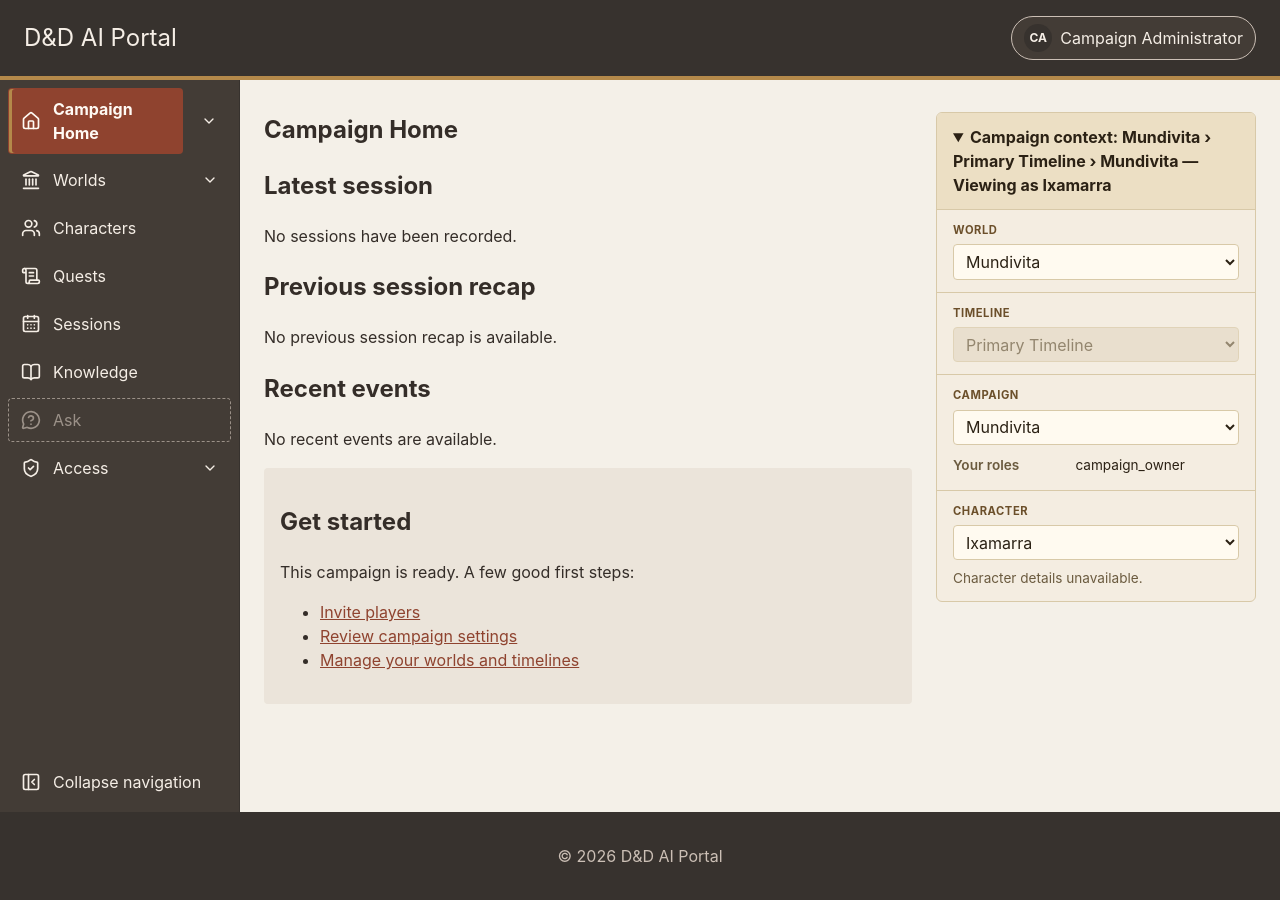
it: portal routing › shows an accessible logout control in the authenticated chrome
The width and height of the screenshot is (1280, 900).
Click the button with aria-label "account menu" at (1134, 38), box [1011,16,1256,60]
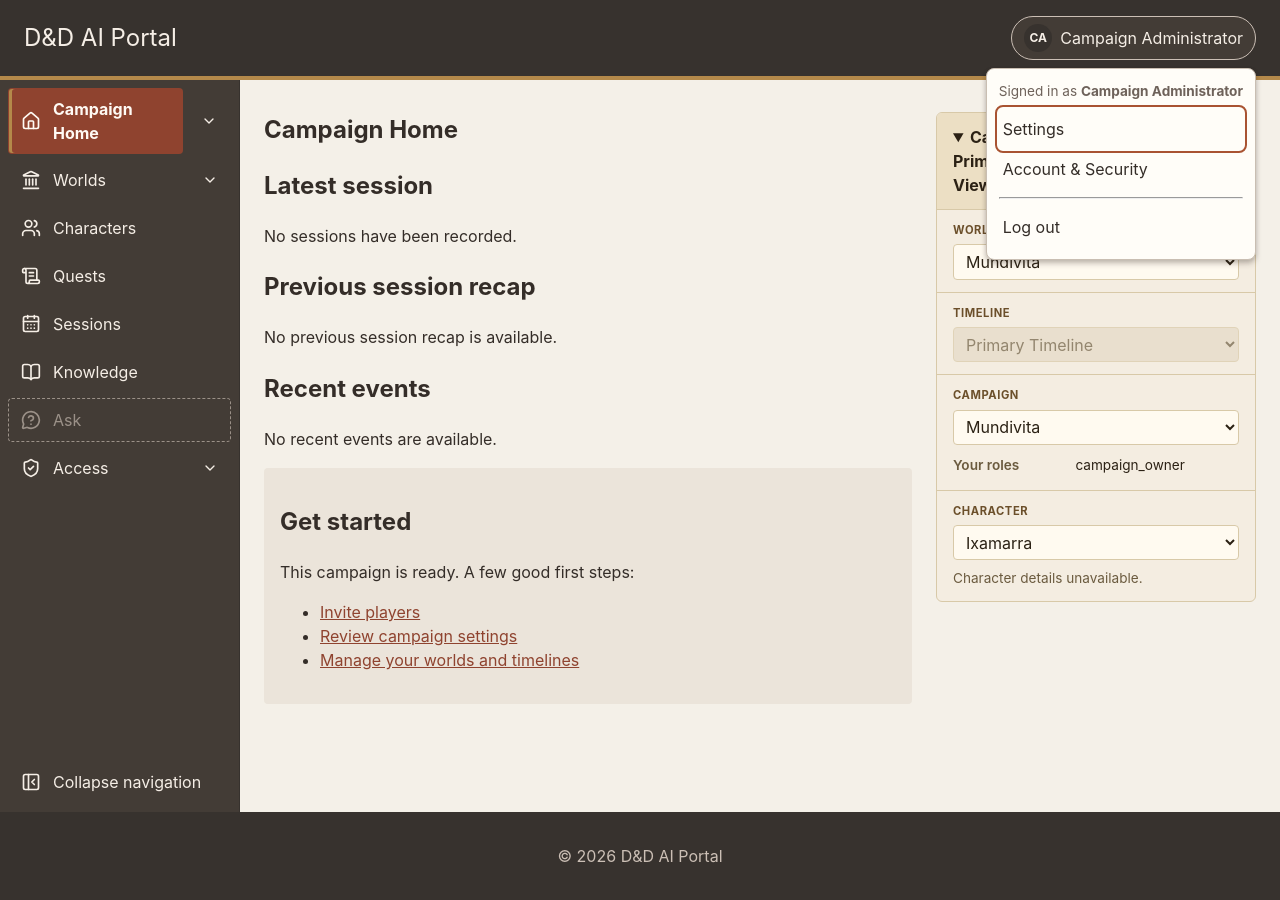
Expected: the button "Log out" is shown, [999,207,1243,247]
